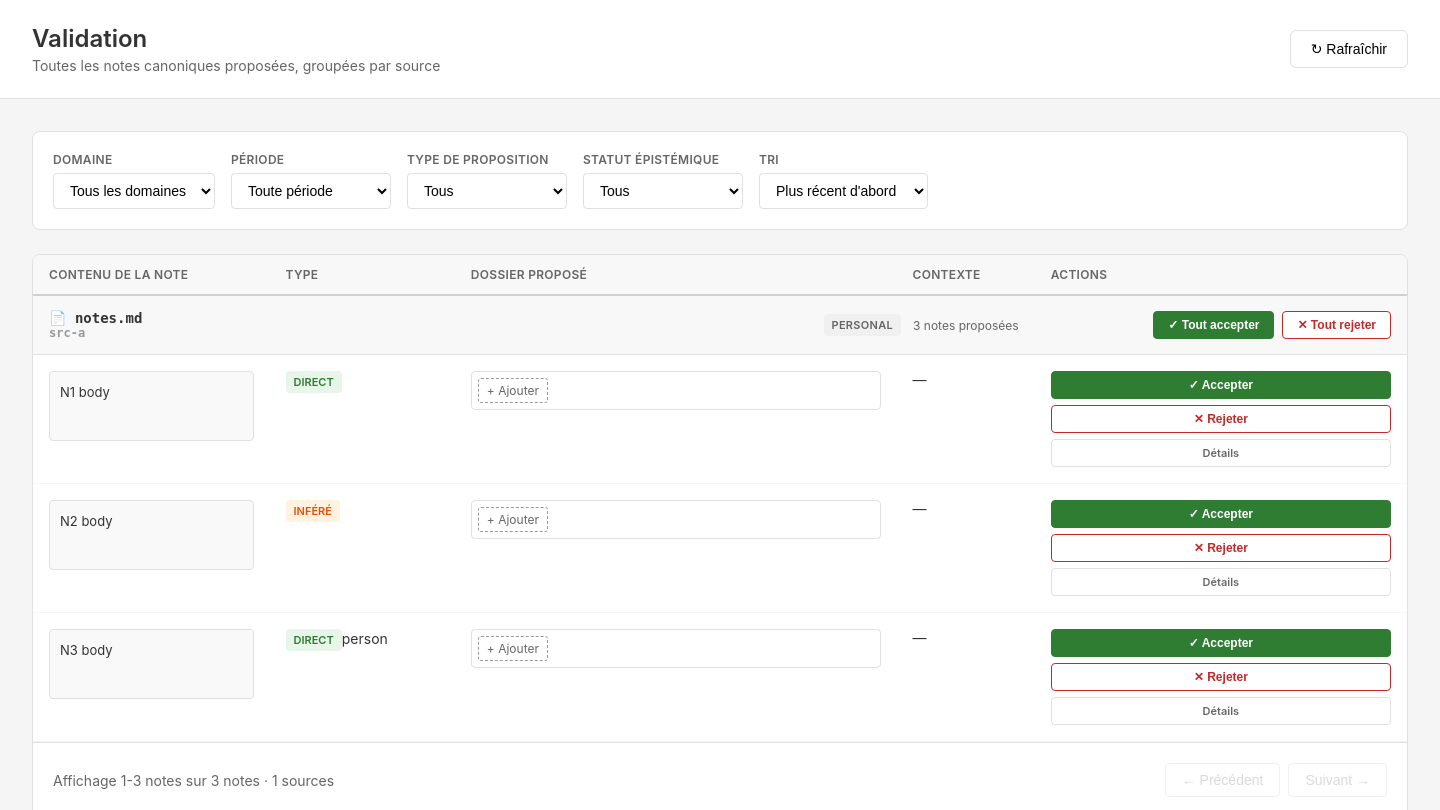
Test case: Validation › TASK-015 AC5: Statut épistémique filter composes with the Type filter (only the fully-matching note remains)
Expected: the text "N1 body" is shown, 49,371 -> 254,441
Select "Assertion" in the dropdown labelled "Type de proposition" at (487, 191), box 407,173 -> 567,209
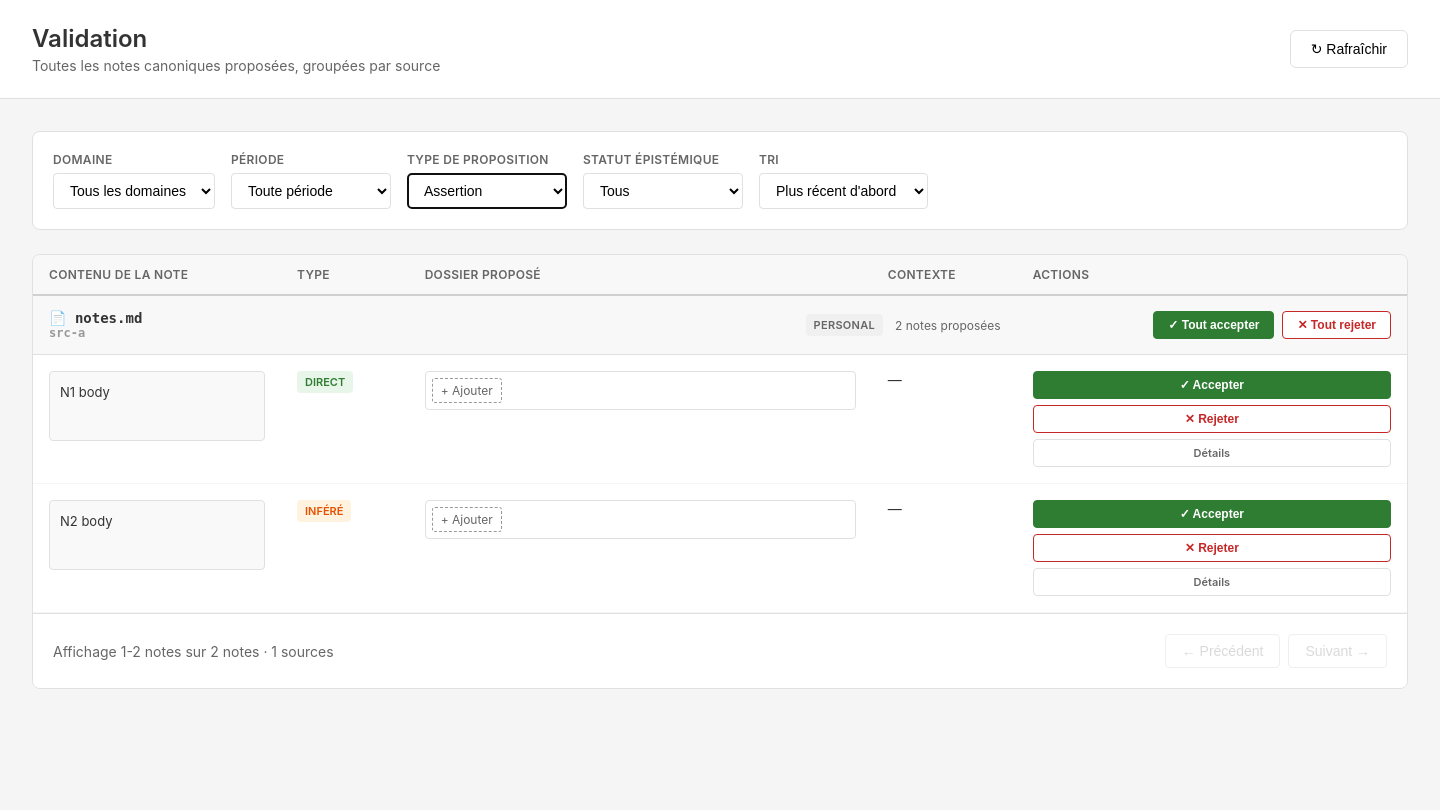
Select "Direct" in the dropdown labelled "Statut épistémique" at (663, 191), box 583,173 -> 743,209
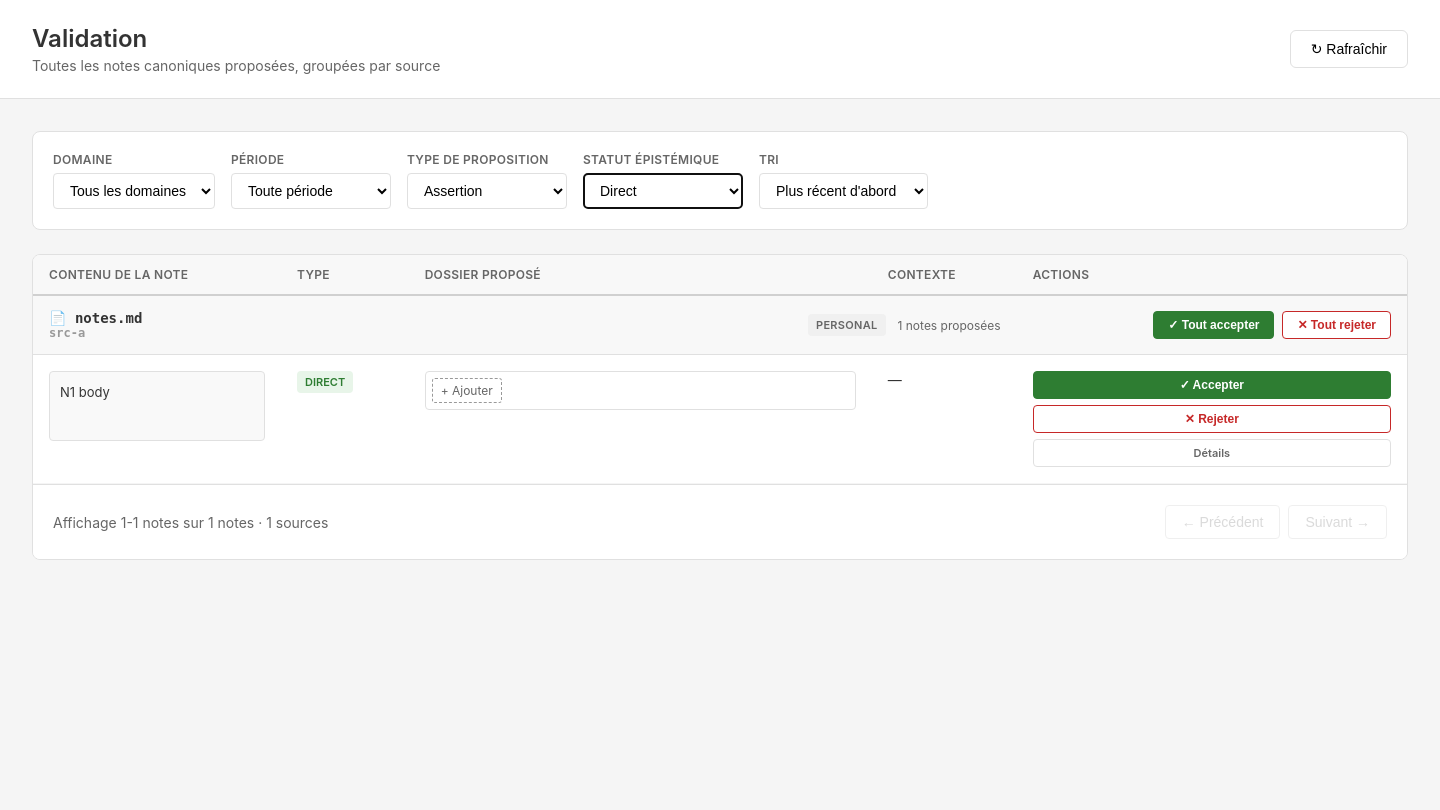
Expected: the text "N1 body" is shown, 49,371 -> 265,441
Expected: the text "N2 body" is gone
